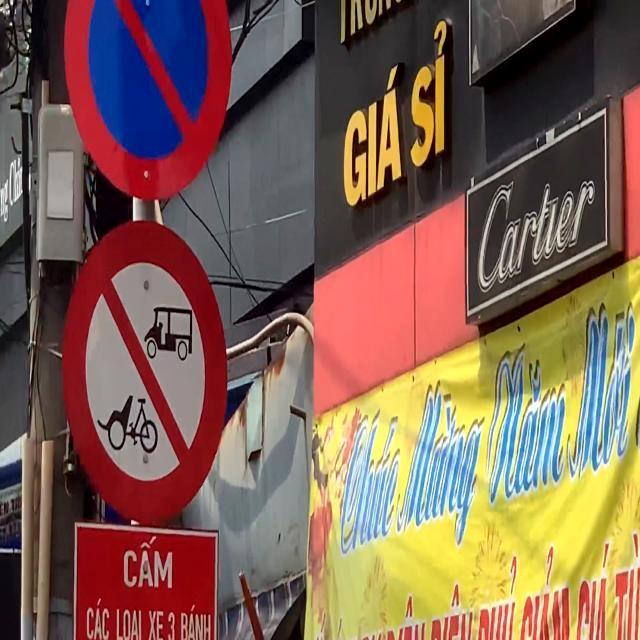Cam do xe: (63, 0, 234, 205)
